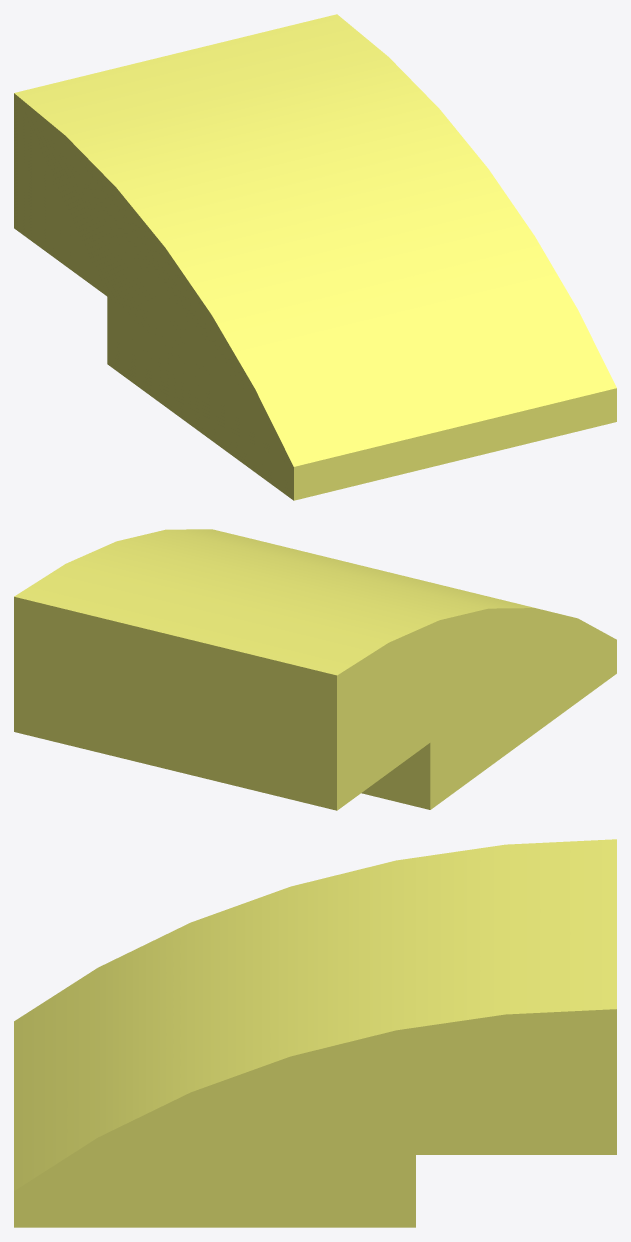
3 renders of one model, top to bottom at view 1: azimuth 30°, elevation 25°; view 2: azimuth 150°, elevation 25°; view 3: azimuth 270°, elevation 25°, orthographic. The views are drawn at different scales.
Parts seen in each view (by area): view 1: 24309.dat; view 2: 24309.dat; view 3: 24309.dat.
Part boxes in pixels (<box>): 24309.dat: <box>14,14,616,500</box>; 24309.dat: <box>14,529,616,810</box>; 24309.dat: <box>14,839,616,1227</box>.
Size of the model in its own units: 0.016 by 0.0096 by 0.024.
